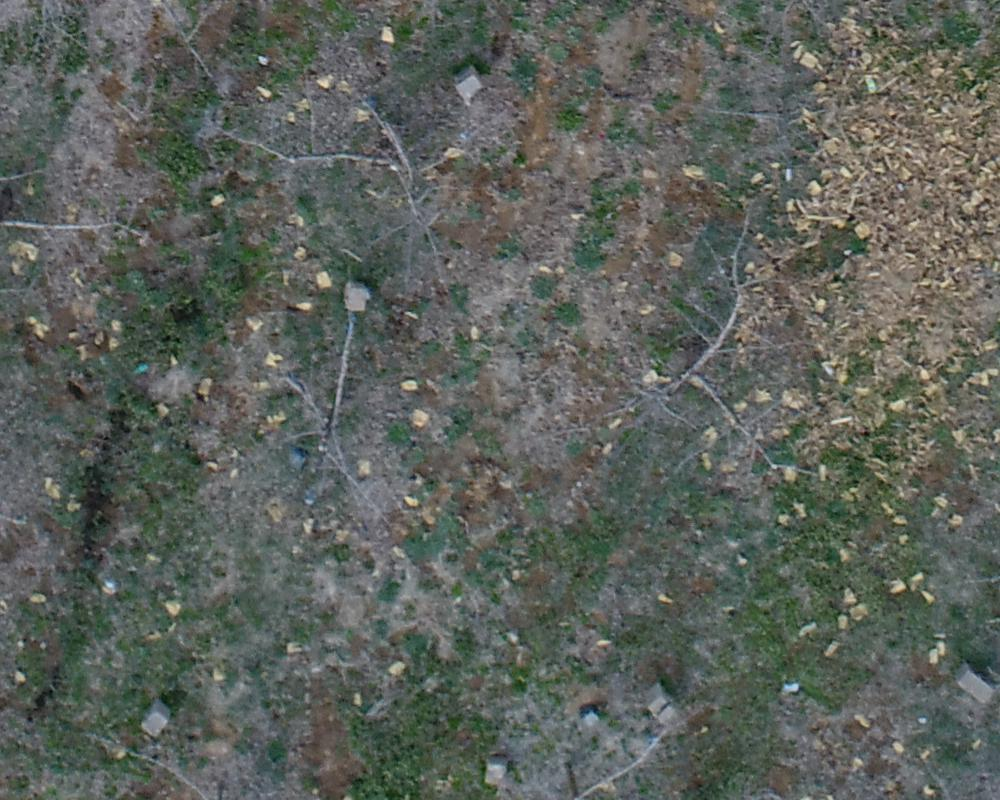apple: (552, 175, 819, 470), (232, 63, 482, 281), (10, 128, 135, 382)
